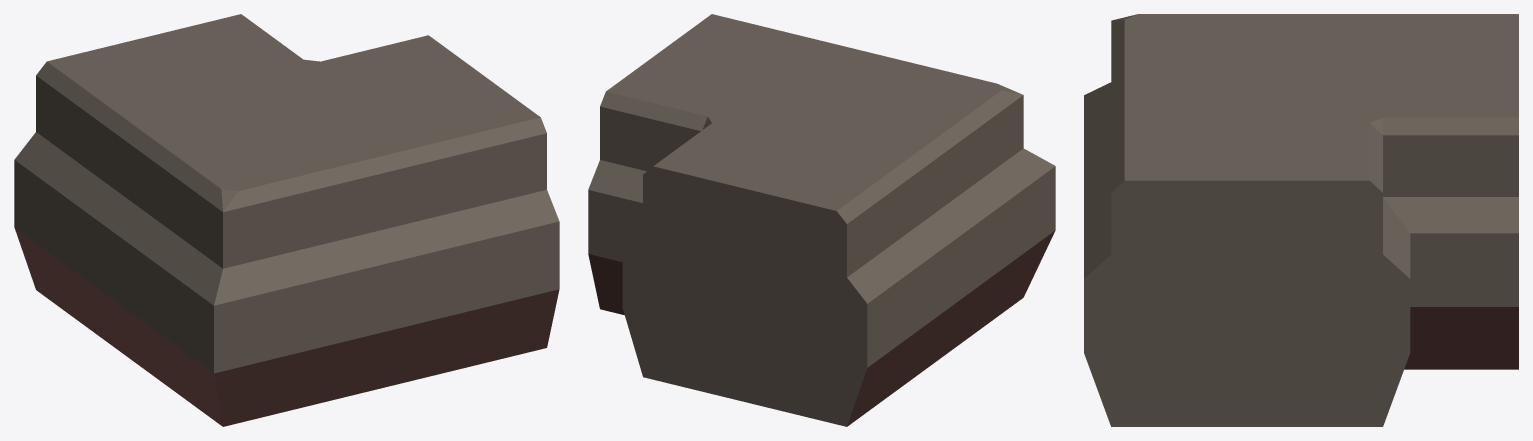
Rendered from steampunk_wall_stone_corner.fbx.
3 renders of one model, left to right at view 1: azimuth 30°, elevation 25°; view 2: azimuth 150°, elevation 25°; view 3: azimuth 270°, elevation 25°, orthographic. The views are drawn at different scales.
Visible parts, largest first — view 1: Cube.056; view 2: Cube.056; view 3: Cube.056.
Part boxes in pixels (x1,y1,x2,y2): Cube.056: [14, 14, 559, 426]; Cube.056: [588, 14, 1055, 426]; Cube.056: [1084, 14, 1518, 426].
Size of the model in its own units: 2.4 by 1.5 by 2.4.
